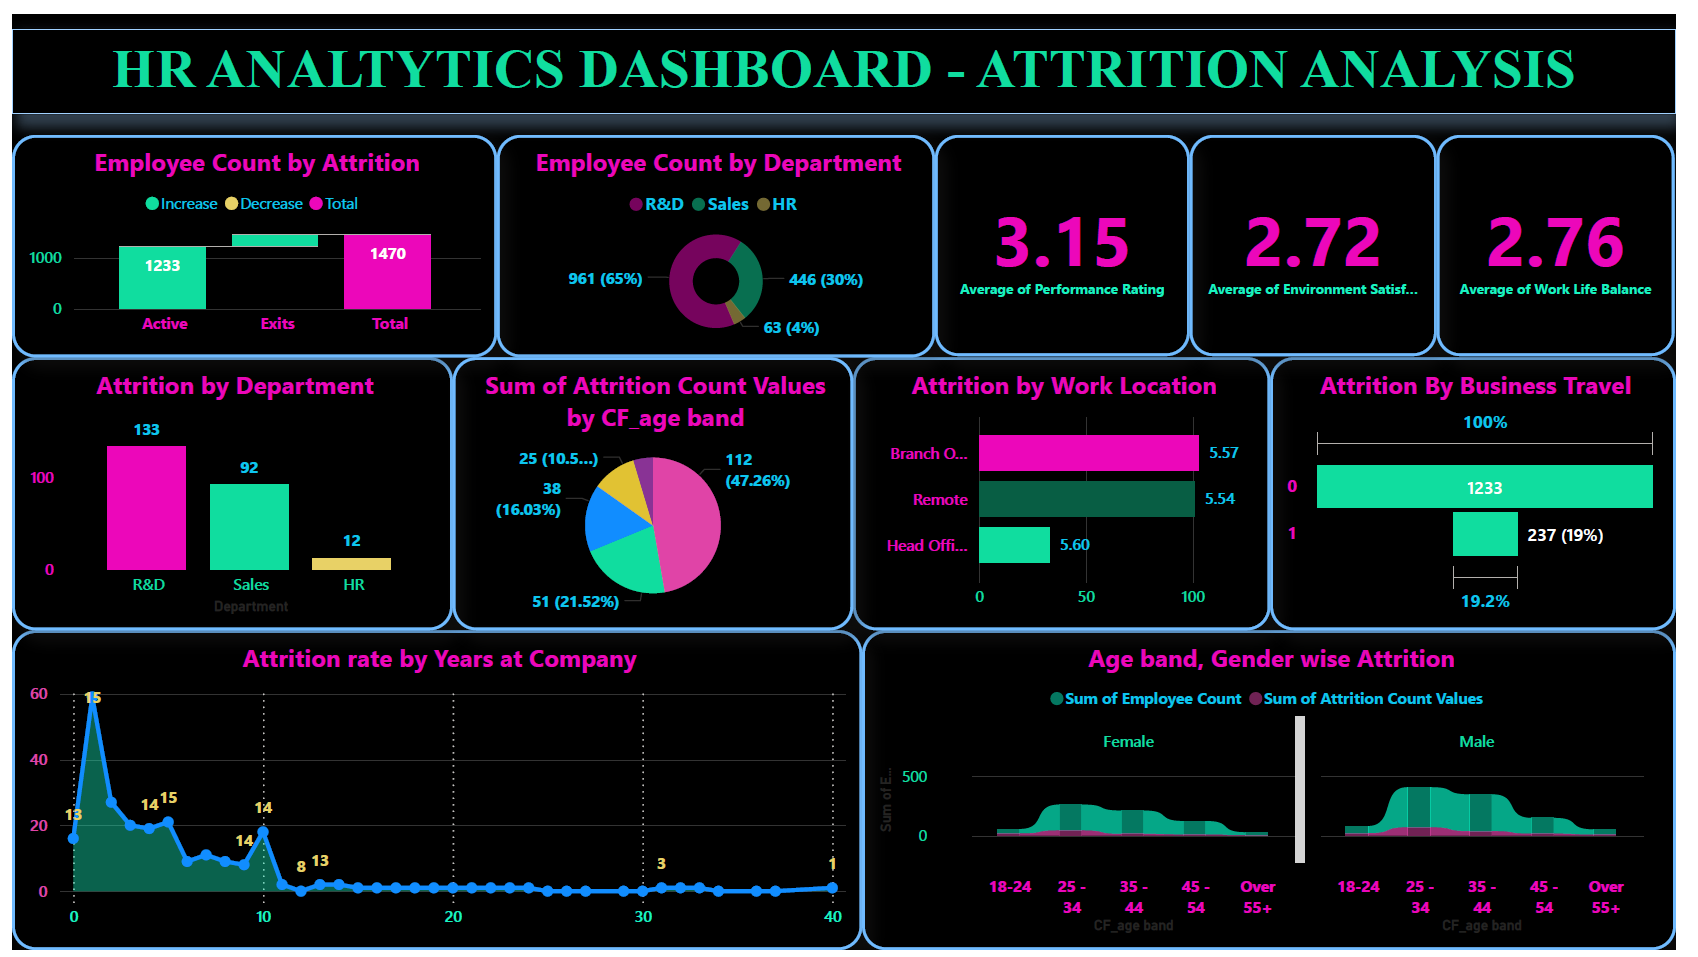

This screenshot's page, from the dashboard's own definition file:
{"tool":"powerbi","page":{"name":"Attrition Analysis By Age band, department ","canvas":[1280,720],"ordinal":1},"visuals":[{"type":"areaChart","title":"Attrition rate by Years at Company","fields":{"Category":["HR_Analytics.Years At Company"],"Y":["Sum(HR_Analytics.Attrition Count Values)"]},"box":[0,474.5,654.2,246],"z":0},{"type":"ribbonChart","title":"Age band, Gender wise Attrition","fields":{"Category":["HR_Analytics.CF_age band"],"Rows":["HR_Analytics.Gender"],"Y":["Sum(HR_Analytics.Employee Count)","Sum(HR_Analytics.Attrition Count Values)"]},"box":[654.2,474.5,625.8,246],"z":1000},{"type":"clusteredColumnChart","title":"Attrition by Department","fields":{"Category":["HR_Analytics.Department"],"Y":["Sum(HR_Analytics.Attrition Count Values)"]},"box":[0,263.6,339.3,210.9],"z":2000},{"type":"clusteredBarChart","title":"Attrition by Work Location","fields":{"Category":["HR_Analytics.Work Location"],"Y":["Sum(HR_Analytics.Attrition Count Values)"]},"box":[647.5,263.6,320.4,210.9],"z":3000},{"type":"funnel","title":"Attrition By Business Travel","fields":{"Category":["HR_Analytics.Attrition Count Values"],"Y":["CountNonNull(HR_Analytics.Business Travel)"]},"box":[967.8,263.6,312.2,210.9],"z":4000},{"type":"waterfallChart","title":"Employee Count by Attrition","fields":{"Category":["HR_Analytics.Attrition Label"],"Y":["Sum(HR_Analytics.Employee Count)"]},"box":[0,93.3,373.1,170.3],"z":5000},{"type":"pieChart","title":"Employee Count by Department","fields":{"Category":["HR_Analytics.Department"],"Y":["CountNonNull(HR_Analytics.Employee Count)"]},"box":[373.1,93.3,336.6,170.3],"z":6000},{"type":"card","fields":{"Values":["Avg(HR_Analytics.Performance Rating)"]},"box":[710.4,92.9,195.3,170.1],"z":7000},{"type":"textbox","box":[0,10.8,1280.1,66.2],"z":8000},{"type":"pieChart","fields":{"Category":["HR_Analytics.CF_age band"],"Y":["Sum(HR_Analytics.Attrition Count Values)"]},"box":[339.3,263.6,308.2,210.9],"z":9000},{"type":"card","fields":{"Values":["Avg(HR_Analytics.Environment Satisfaction)"]},"box":[905.7,92.9,190.6,170.1],"z":10000},{"type":"card","fields":{"Values":["Avg(HR_Analytics.Work Life Balance)"]},"box":[1096.3,92.9,182.7,170.1],"z":11000}]}

Visuals, with their boxes in screenshot pixels (x1, y1, x2, y2), scaled from the page's 1280x720 canvas onto the 1698x957 screenshot:
"Attrition rate by Years at Company" areaChart: (0, 631, 868, 956)
"Age band, Gender wise Attrition" ribbonChart: (868, 631, 1697, 956)
"Attrition by Department" clusteredColumnChart: (0, 350, 450, 631)
"Attrition by Work Location" clusteredBarChart: (859, 350, 1284, 631)
"Attrition By Business Travel" funnel: (1284, 350, 1697, 631)
"Employee Count by Attrition" waterfallChart: (0, 124, 495, 350)
"Employee Count by Department" pieChart: (495, 124, 941, 350)
card - Avg(HR_Analytics.Performance Rating): (942, 123, 1201, 350)
textbox: (0, 14, 1697, 102)
pieChart - HR_Analytics.CF_age band x Sum(HR_Analytics.Attrition Count Values): (450, 350, 859, 631)
card - Avg(HR_Analytics.Environment Satisfaction): (1201, 123, 1454, 350)
card - Avg(HR_Analytics.Work Life Balance): (1454, 123, 1697, 350)
